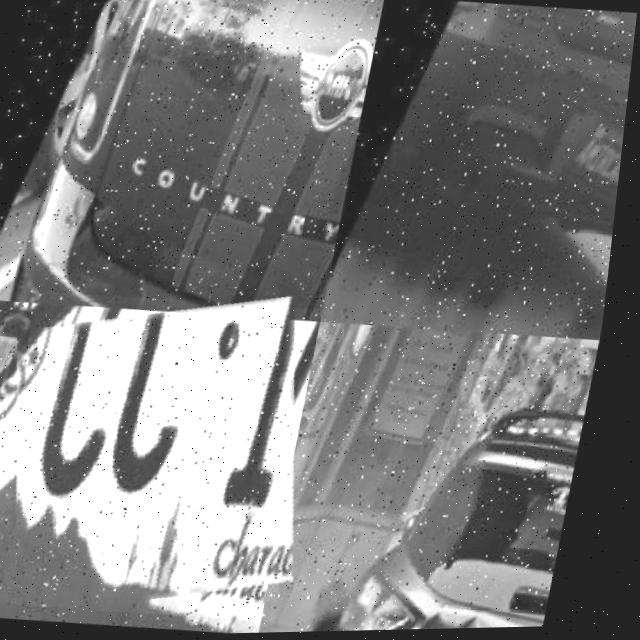LicensePlate: (0, 286, 344, 628), (558, 109, 630, 209)
